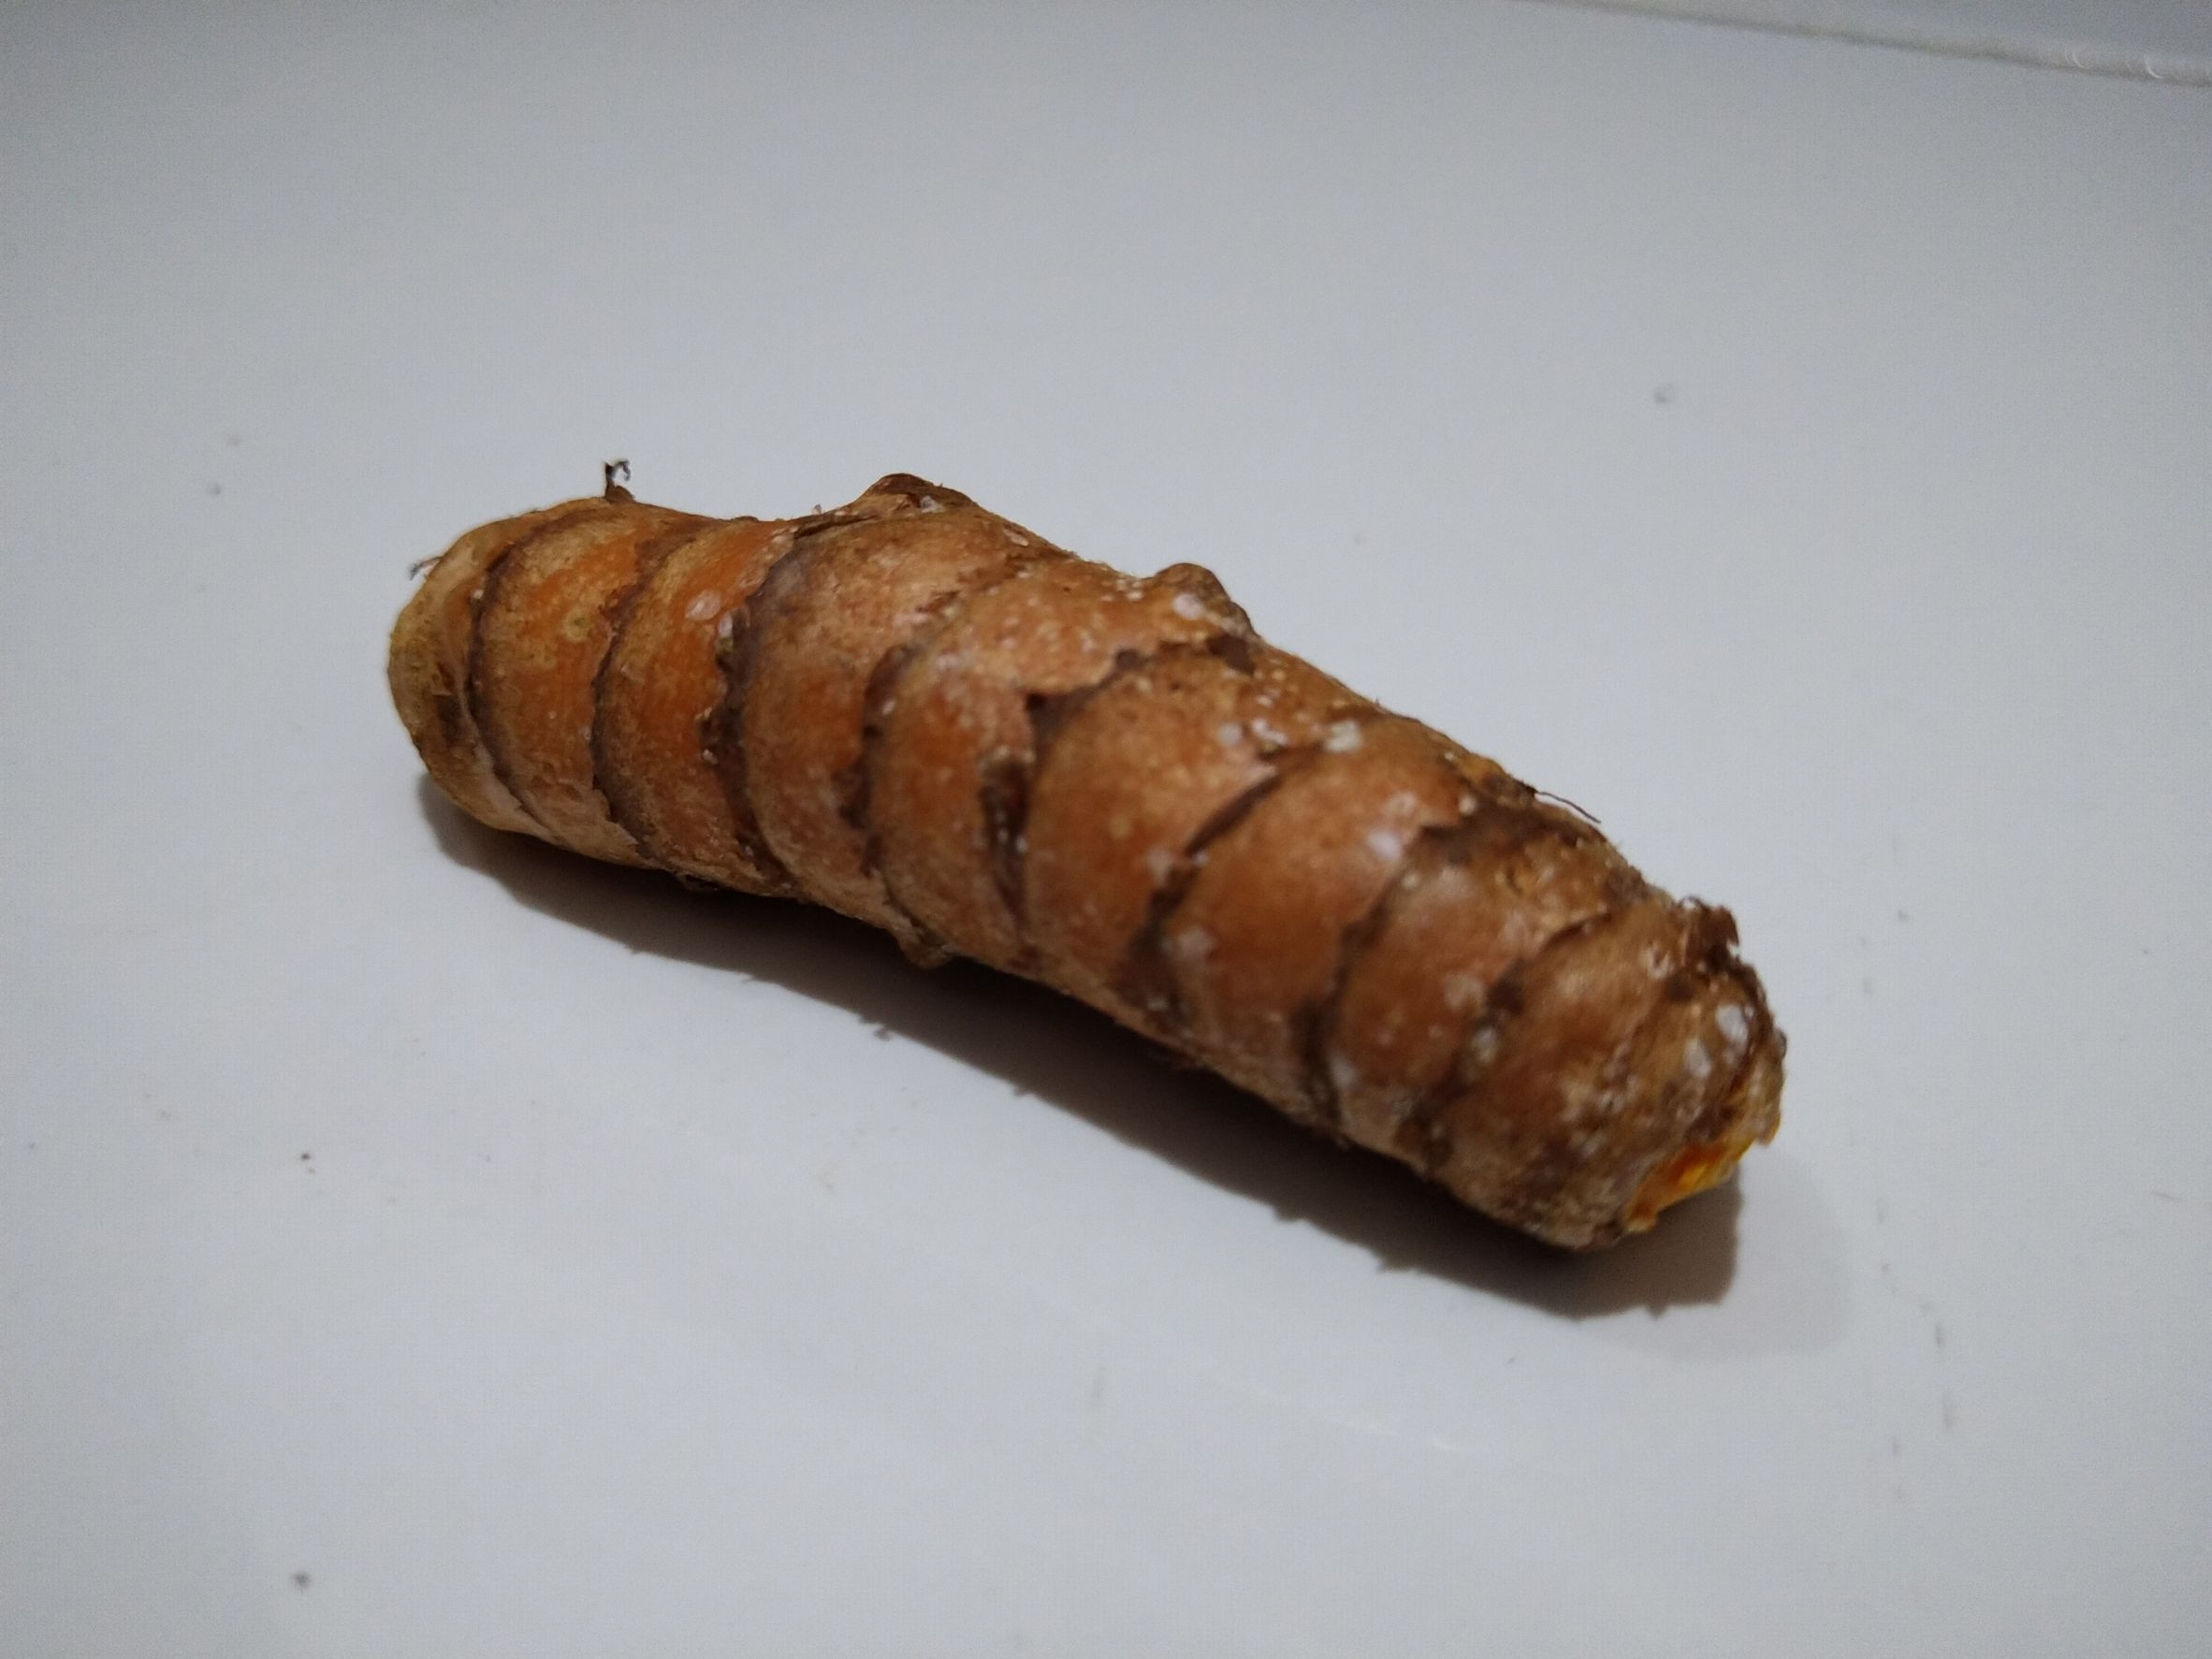Kunyit: (399, 491, 1782, 1297)
